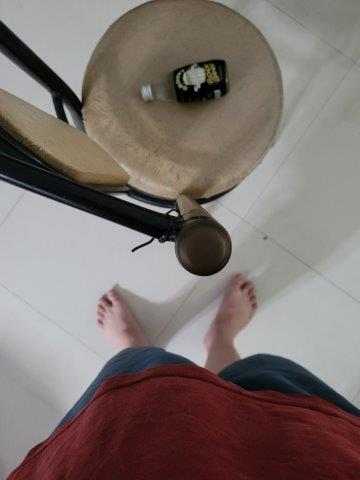botolkaca: (139, 60, 231, 102)
